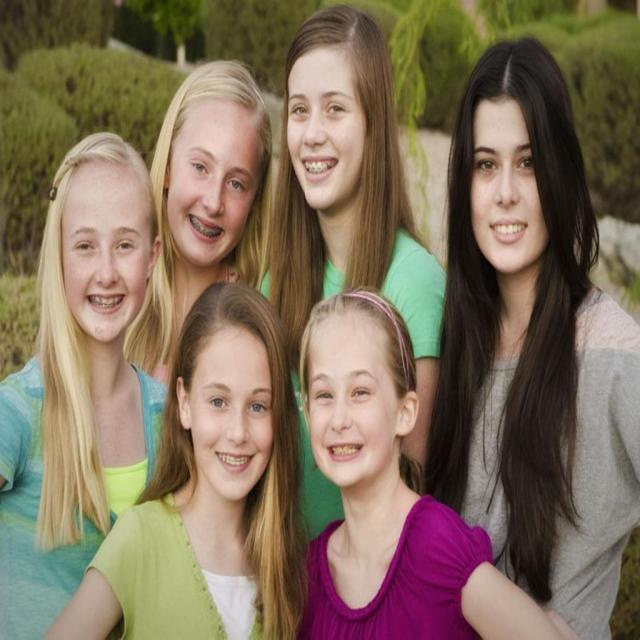Face: (158, 74, 274, 267), (170, 295, 287, 486), (303, 301, 422, 483), (51, 139, 156, 339), (468, 73, 564, 285), (284, 21, 376, 208)
